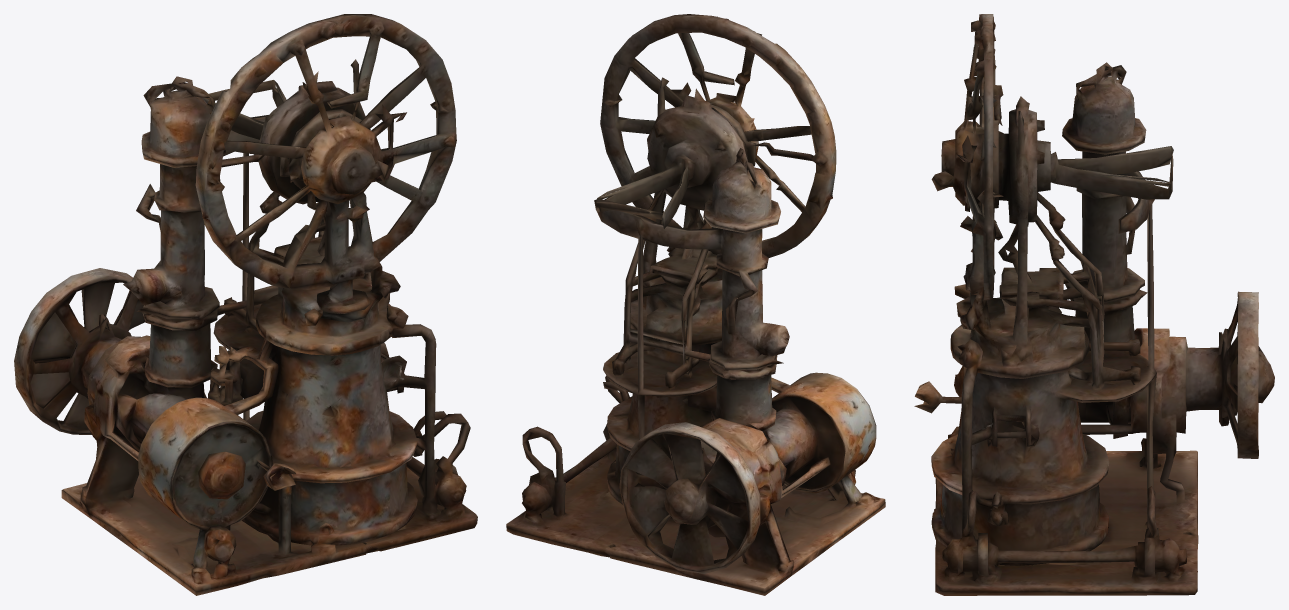
File: industrial_machine_a.glb
3 renders of one model, left to right at view 1: azimuth 30°, elevation 25°; view 2: azimuth 150°, elevation 25°; view 3: azimuth 270°, elevation 25°, orthographic. The views are drawn at different scales.
Visible parts, largest first — view 1: industrial_machine_a / mesh; view 2: industrial_machine_a / mesh; view 3: industrial_machine_a / mesh.
Boxes of the visible parts, left/top/right/bottom form: industrial_machine_a / mesh: left=14, top=14, right=477, bottom=595; industrial_machine_a / mesh: left=506, top=14, right=885, bottom=595; industrial_machine_a / mesh: left=914, top=14, right=1274, bottom=595.
Size of the model in its own units: 1.53 by 2.45 by 1.58.
Materials: 1 (1 with a texture image).
